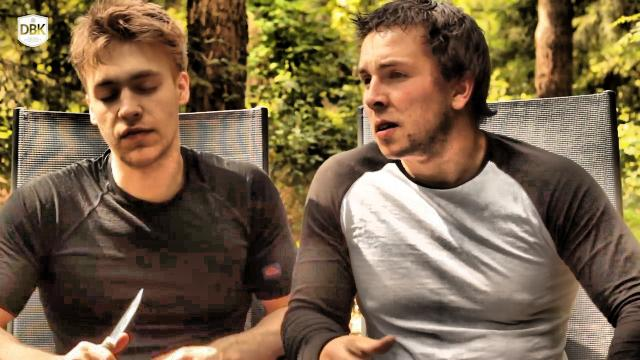knife: (78, 276, 154, 360)
